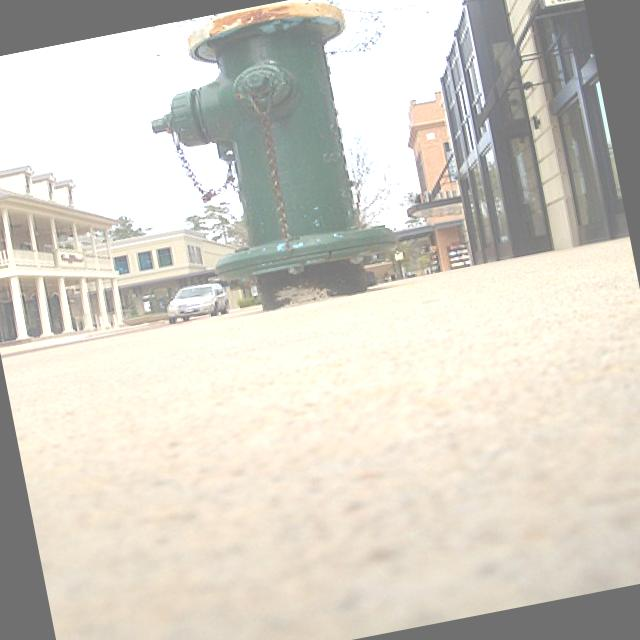Vehicle: (162, 280, 232, 328)
